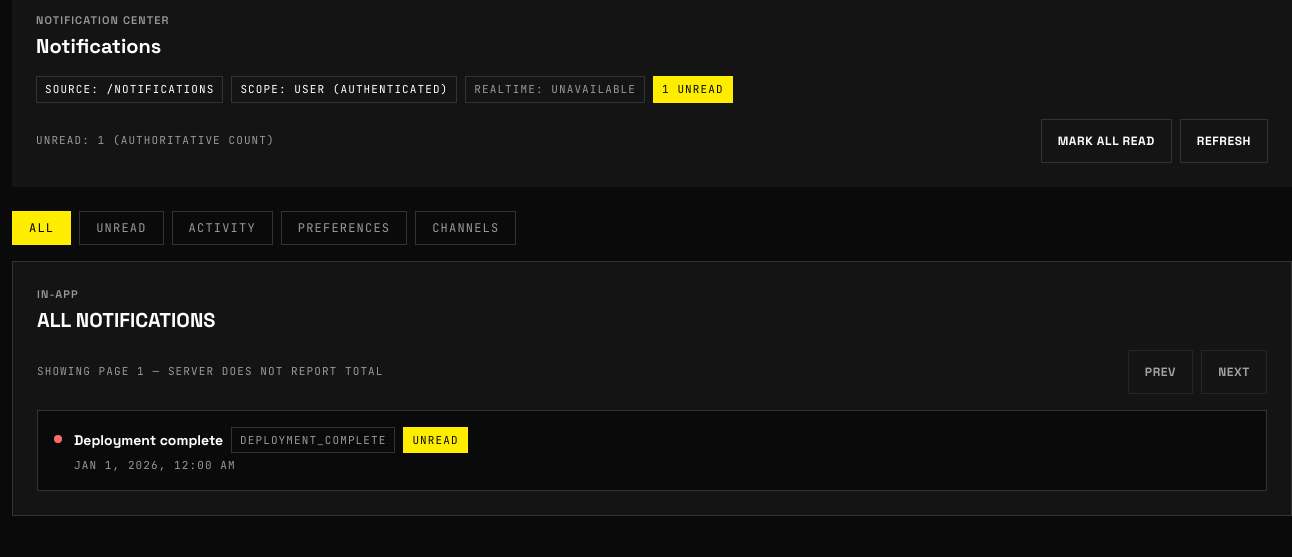
Test: Notification Center — read-only (C1) › shows ACTIVITY UNAVAILABLE when knowledge audit access is forbidden
Expected: the text "Deployment complete" is shown, [74, 430, 223, 450]
What coordinates should you click on to do the following:
click the tab "ACTIVITY"
I would click on:
 (222, 228)
Its box is [172, 210, 273, 244].
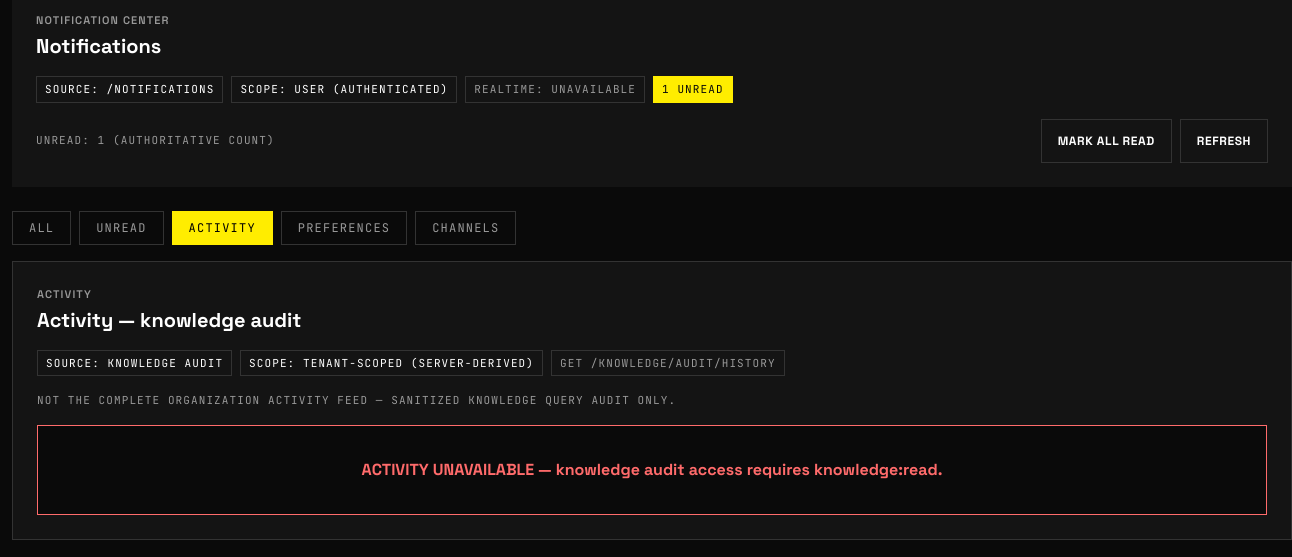
Expected: the text "ACTIVITY UNAVAILABLE — knowledge audit access requires knowledge:read." is shown, [362, 458, 942, 480]
